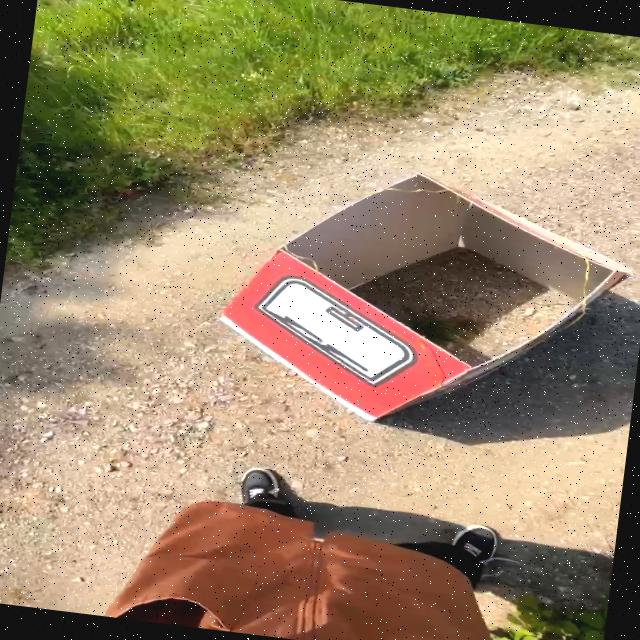red_car: (161, 137, 640, 472)
